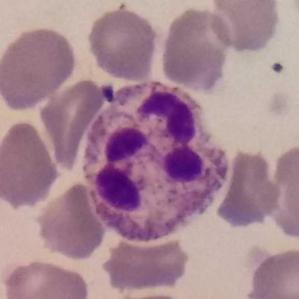Neutrophil: (73, 72, 237, 253)
Platelets: (268, 60, 286, 76)
RBC: (0, 23, 79, 112), (37, 76, 109, 171), (158, 4, 234, 94), (99, 229, 193, 295), (34, 179, 108, 262), (212, 146, 283, 232), (85, 4, 160, 83), (0, 117, 63, 209), (206, 0, 284, 55), (1, 257, 92, 299), (267, 142, 299, 242), (243, 245, 299, 299), (206, 1, 282, 19), (288, 0, 299, 33)
